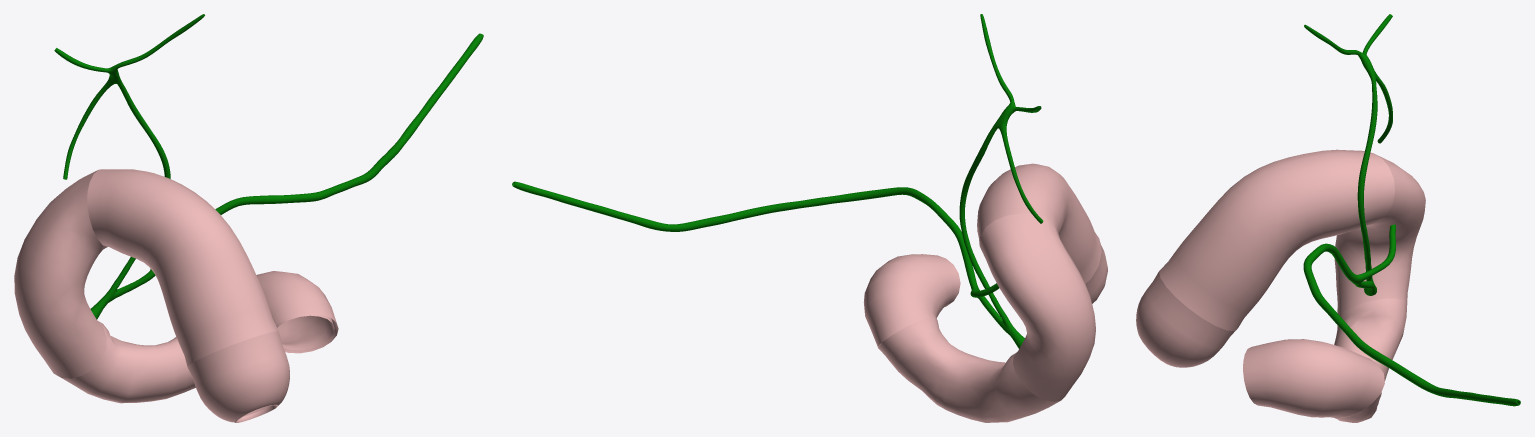
Rendered from VH_F_Pancreas_Landmarks.fbx.
The picture shows the model from 3 angles, left to right: view 1: azimuth 30°, elevation 25°; view 2: azimuth 150°, elevation 25°; view 3: azimuth 270°, elevation 25°; orthographic projection. The views are drawn at different scales.
Visible parts, largest first — view 1: VH_F_pancreas_landmark_duodenum, VH_F_pancreas_landmark_biliary_tree; view 2: VH_F_pancreas_landmark_duodenum, VH_F_pancreas_landmark_biliary_tree; view 3: VH_F_pancreas_landmark_duodenum, VH_F_pancreas_landmark_biliary_tree.
Boxes of the visible parts, <box> form: VH_F_pancreas_landmark_duodenum: <box>14,169,338,422</box>; VH_F_pancreas_landmark_biliary_tree: <box>54,14,483,319</box>; VH_F_pancreas_landmark_duodenum: <box>863,163,1107,422</box>; VH_F_pancreas_landmark_biliary_tree: <box>512,14,1043,348</box>; VH_F_pancreas_landmark_duodenum: <box>1136,149,1425,422</box>; VH_F_pancreas_landmark_biliary_tree: <box>1303,14,1520,406</box>.
Bounding box in the file's own units: 17.83 × 12.73 × 11.24.
